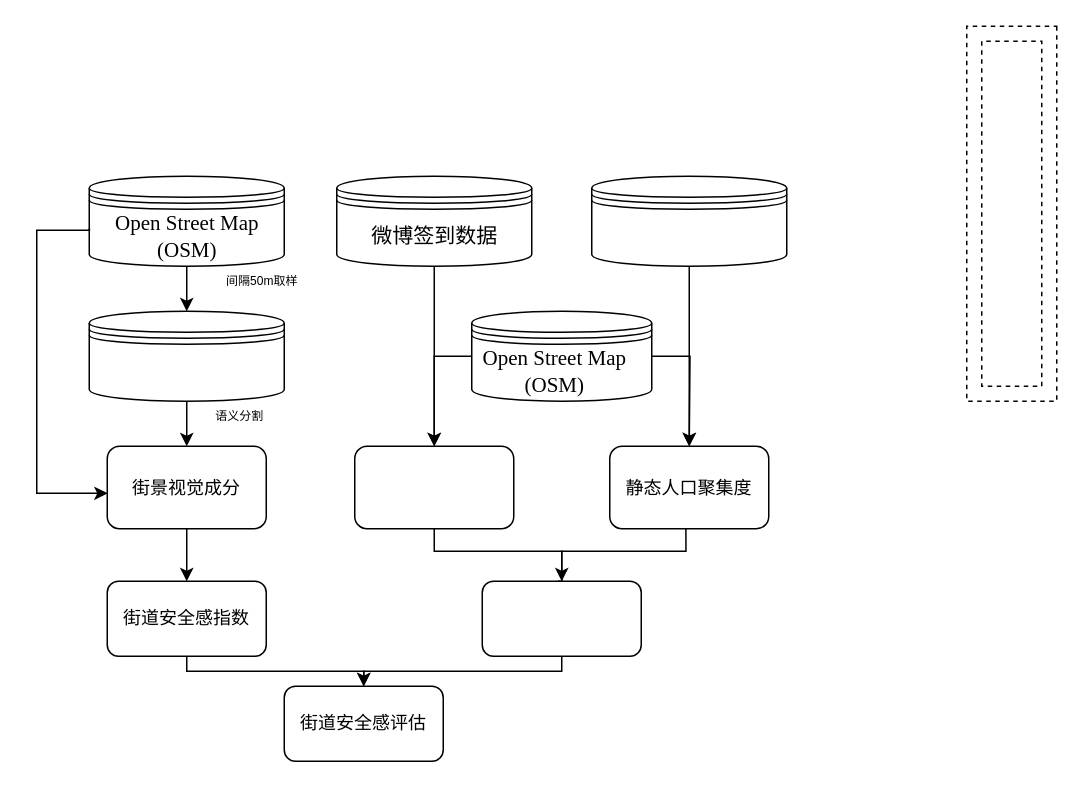
This 1083x788 diagram has some shape labels left out. Each missing label, with the centre of its shape:
动态人口聚集度: (433,487)
小区位置数据: (688,220)
百度街景图像 （BSV）: (186,355)
街道人口聚集度: (561,618)
